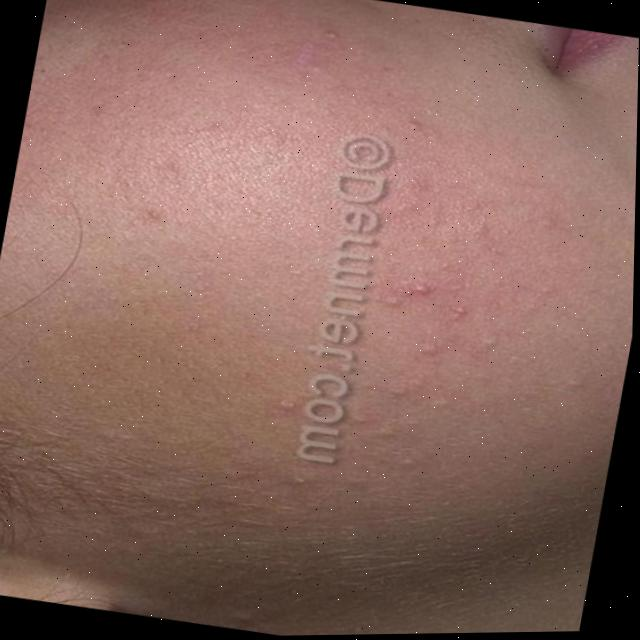Eczema: (142, 64, 536, 497)
